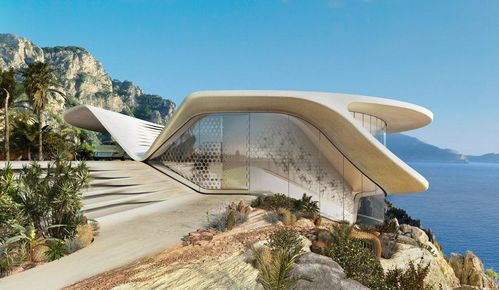buildings: (89, 94, 433, 207)
